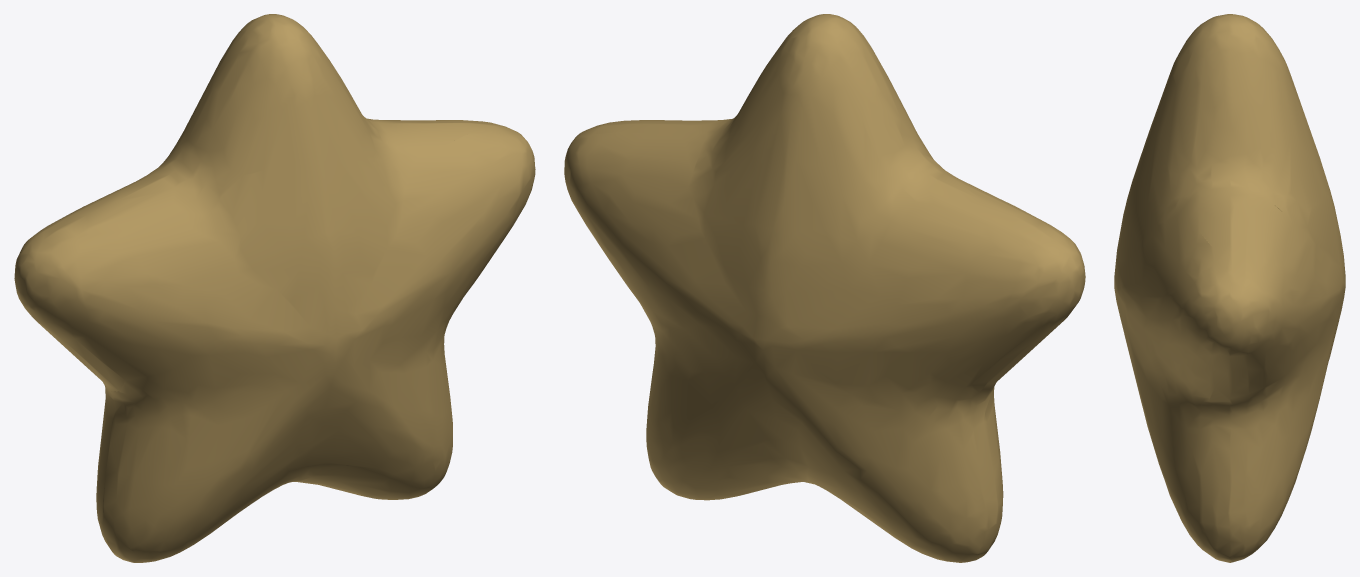
The model's file is star_01.full.glb.
The picture shows the model from 3 angles, left to right: view 1: azimuth 30°, elevation 25°; view 2: azimuth 150°, elevation 25°; view 3: azimuth 270°, elevation 25°; orthographic projection. The views are drawn at different scales.
Bounding box in the file's own units: 1.8 × 1.72 × 0.75.
